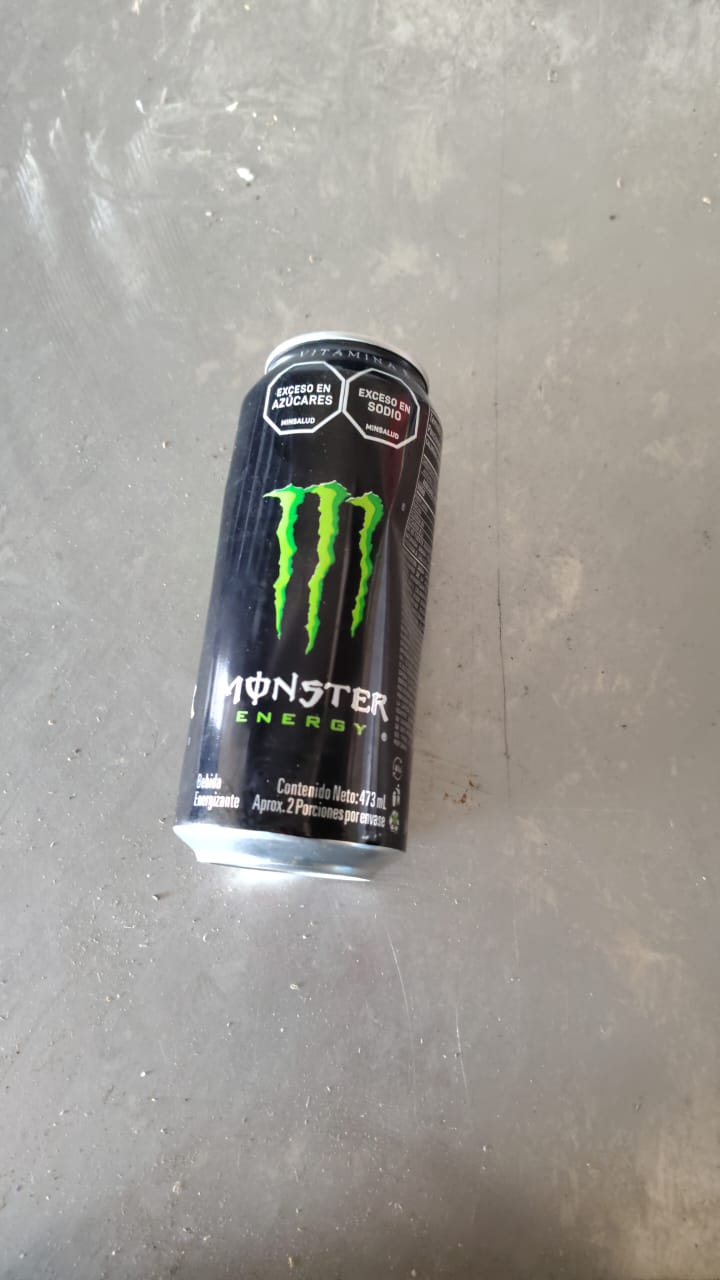Metal: (171, 325, 446, 884)
